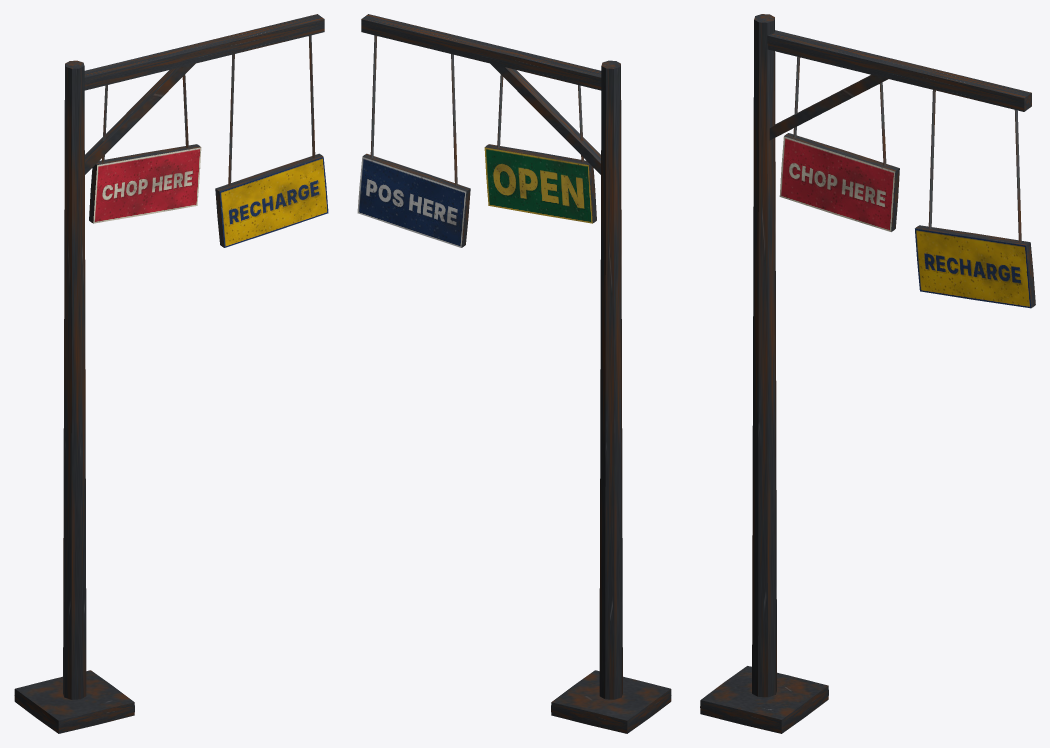
The model's file is env_shopsign.glb.
3 views of the same model, side by side, from view 1: azimuth 30°, elevation 25°; view 2: azimuth 150°, elevation 25°; view 3: azimuth 330°, elevation 25° (orthographic). The views are drawn at different scales.
Parts seen in each view (by area): view 1: env_shopsign_body; view 2: env_shopsign_body; view 3: env_shopsign_body.
Part boxes in pixels (<box>): env_shopsign_body: <box>14,14,328,733</box>; env_shopsign_body: <box>357,14,671,733</box>; env_shopsign_body: <box>700,14,1035,733</box>.
Size of the model in its own units: 0.8251 by 1.75 by 0.22.
Materials: 1 (1 with a texture image).
